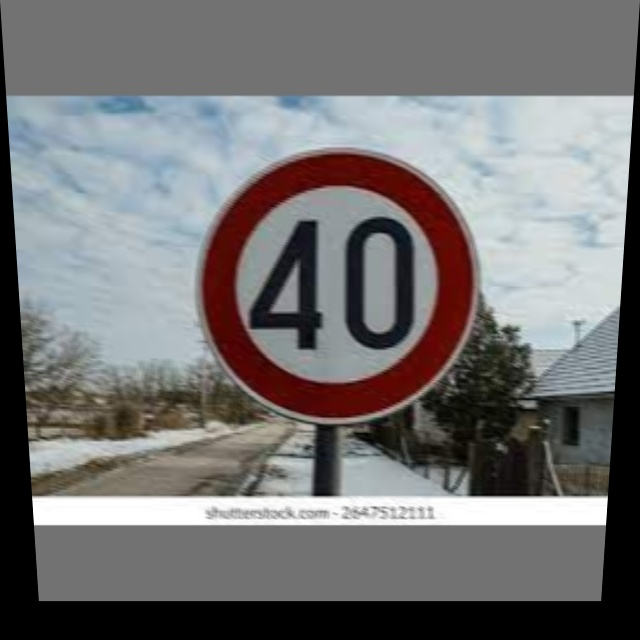Speed_Limit_40: (204, 151, 480, 418)
